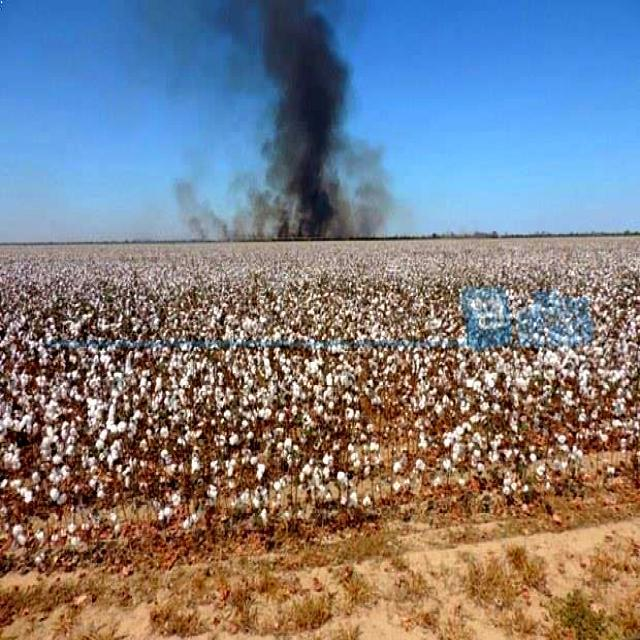Smoke: (206, 0, 363, 239)
